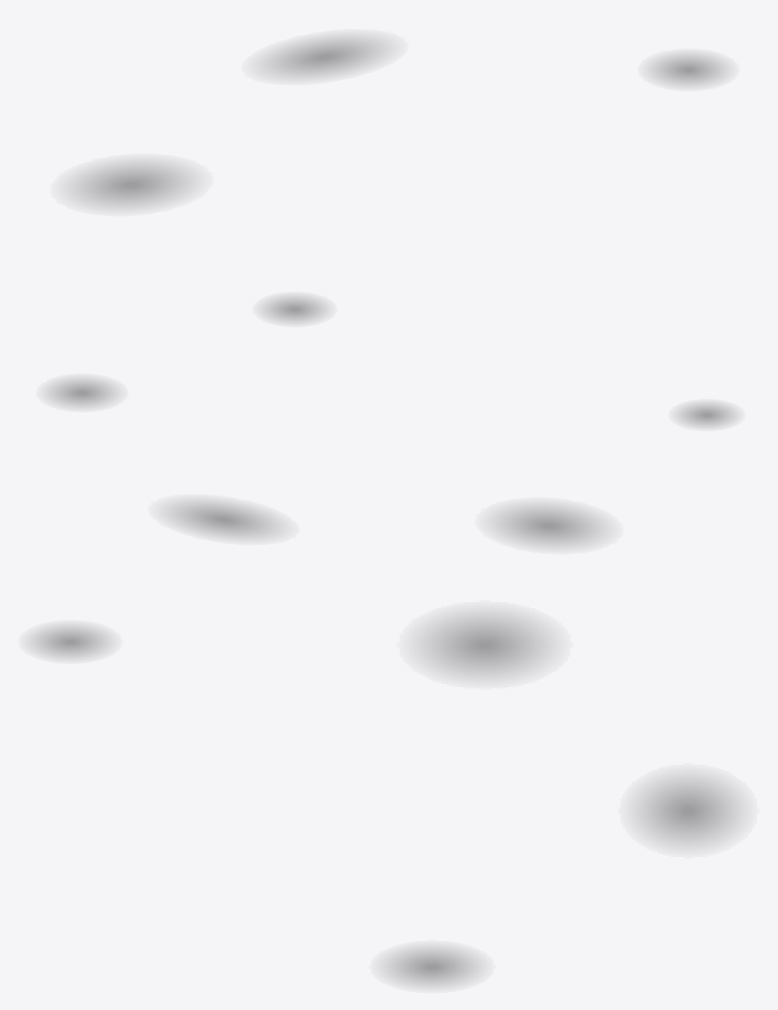
File: building-shadows.glb
The picture shows the model from 3 angles, top to bottom: view 1: azimuth 30°, elevation 25°; view 2: azimuth 150°, elevation 25°; view 3: azimuth 270°, elevation 25°; orthographic projection. The views are drawn at different scales.
Visible parts, largest first — view 1: building-shadows-decal; view 2: building-shadows-decal; view 3: building-shadows-decal.
Boxes of the visible parts, x1,y1,x2,y2 form: building-shadows-decal: (76, 38, 722, 321); building-shadows-decal: (51, 380, 732, 544); building-shadows-decal: (35, 615, 735, 984).
Size of the model in its own units: 12.5 by 0 by 9.95.
Materials: 1 (1 with a texture image).
